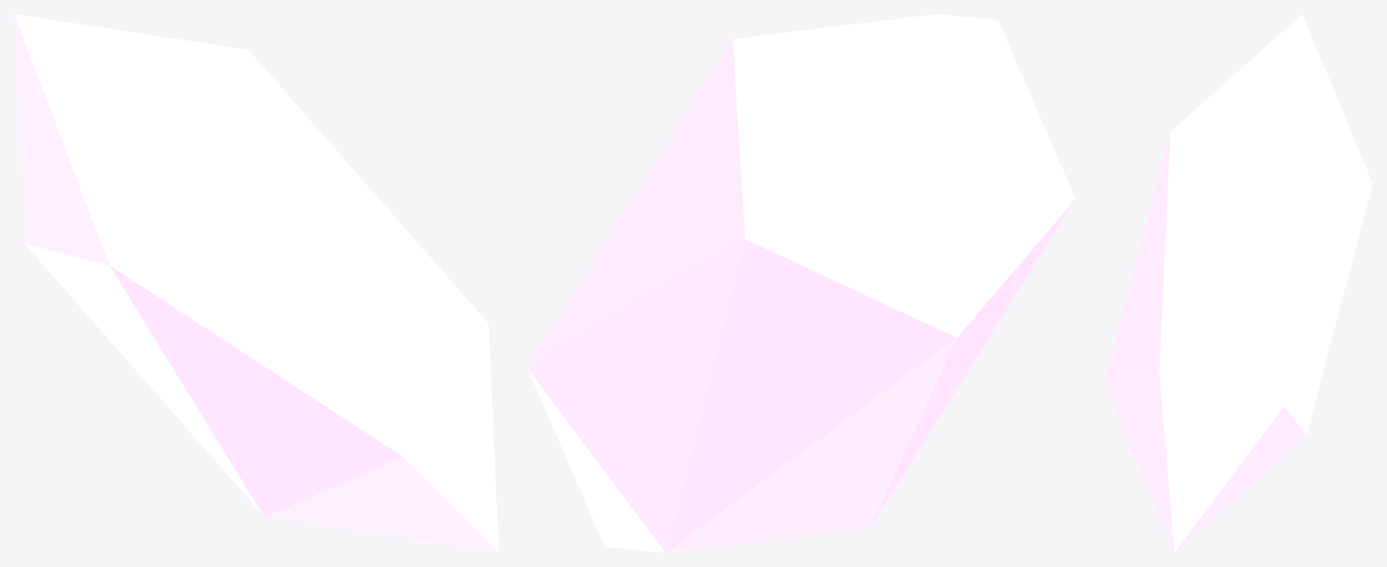
The model's file is SM_Keeper_Umbra_Drone2.fbx.
3 renders of one model, left to right at view 1: azimuth 30°, elevation 25°; view 2: azimuth 150°, elevation 25°; view 3: azimuth 270°, elevation 25°, orthographic. The views are drawn at different scales.
Parts seen in each view (by area): view 1: SM_Keeper_Umbra_Drone2; view 2: SM_Keeper_Umbra_Drone2; view 3: SM_Keeper_Umbra_Drone2.
Boxes of the visible parts, x1,y1,x2,y2 form: SM_Keeper_Umbra_Drone2: (14, 14, 498, 552); SM_Keeper_Umbra_Drone2: (527, 14, 1075, 552); SM_Keeper_Umbra_Drone2: (1104, 14, 1372, 552).
Bounding box in the file's own units: 5.12 × 7.06 × 4.27.
